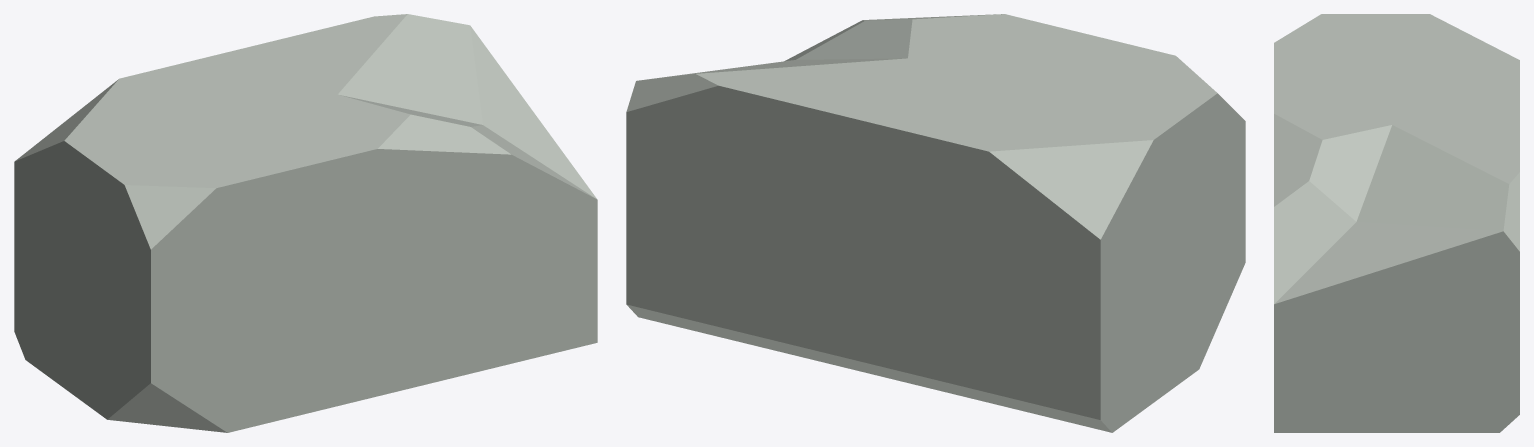
File: Rock_Block_m_13.fbx
3 renders of one model, left to right at view 1: azimuth 30°, elevation 25°; view 2: azimuth 150°, elevation 25°; view 3: azimuth 270°, elevation 25°, orthographic. The views are drawn at different scales.
Visible parts, largest first — view 1: Rock_Block_m_13; view 2: Rock_Block_m_13; view 3: Rock_Block_m_13.
Boxes of the visible parts, x1,y1,x2,y2 form: Rock_Block_m_13: [14, 14, 597, 432]; Rock_Block_m_13: [626, 14, 1245, 432]; Rock_Block_m_13: [1274, 14, 1519, 432].
Bounding box in the file's own units: 119 × 63.18 × 63.18.
